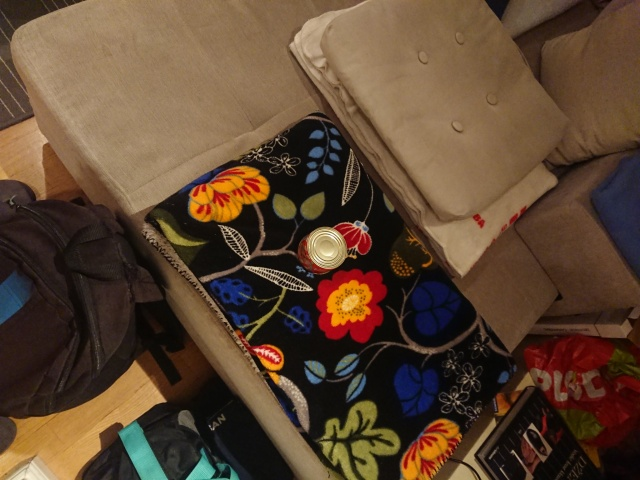Podravka Luncheon Meat 150g: (295, 224, 350, 278)
